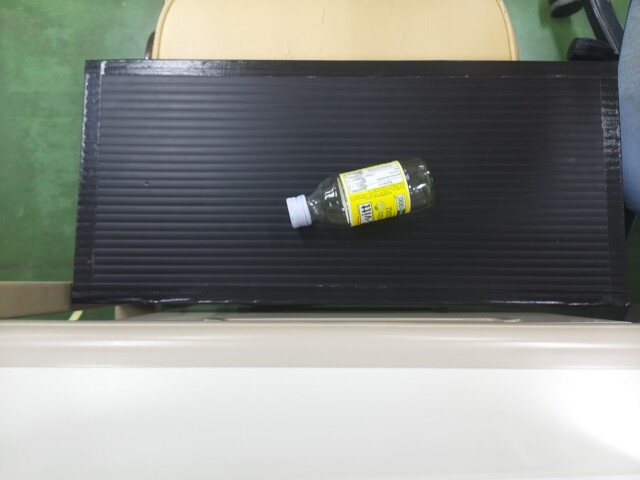glass_bottle: (280, 158, 437, 232)
